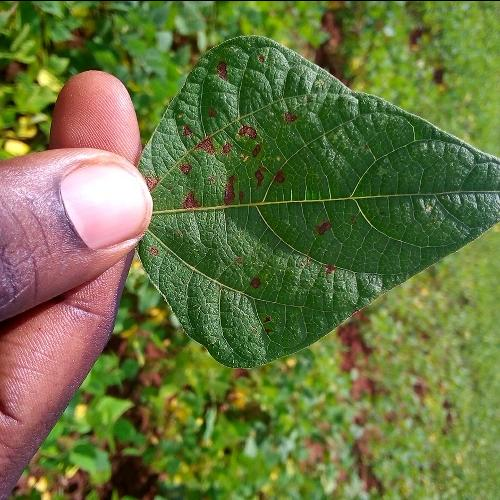hawar: (166, 91, 350, 302)
